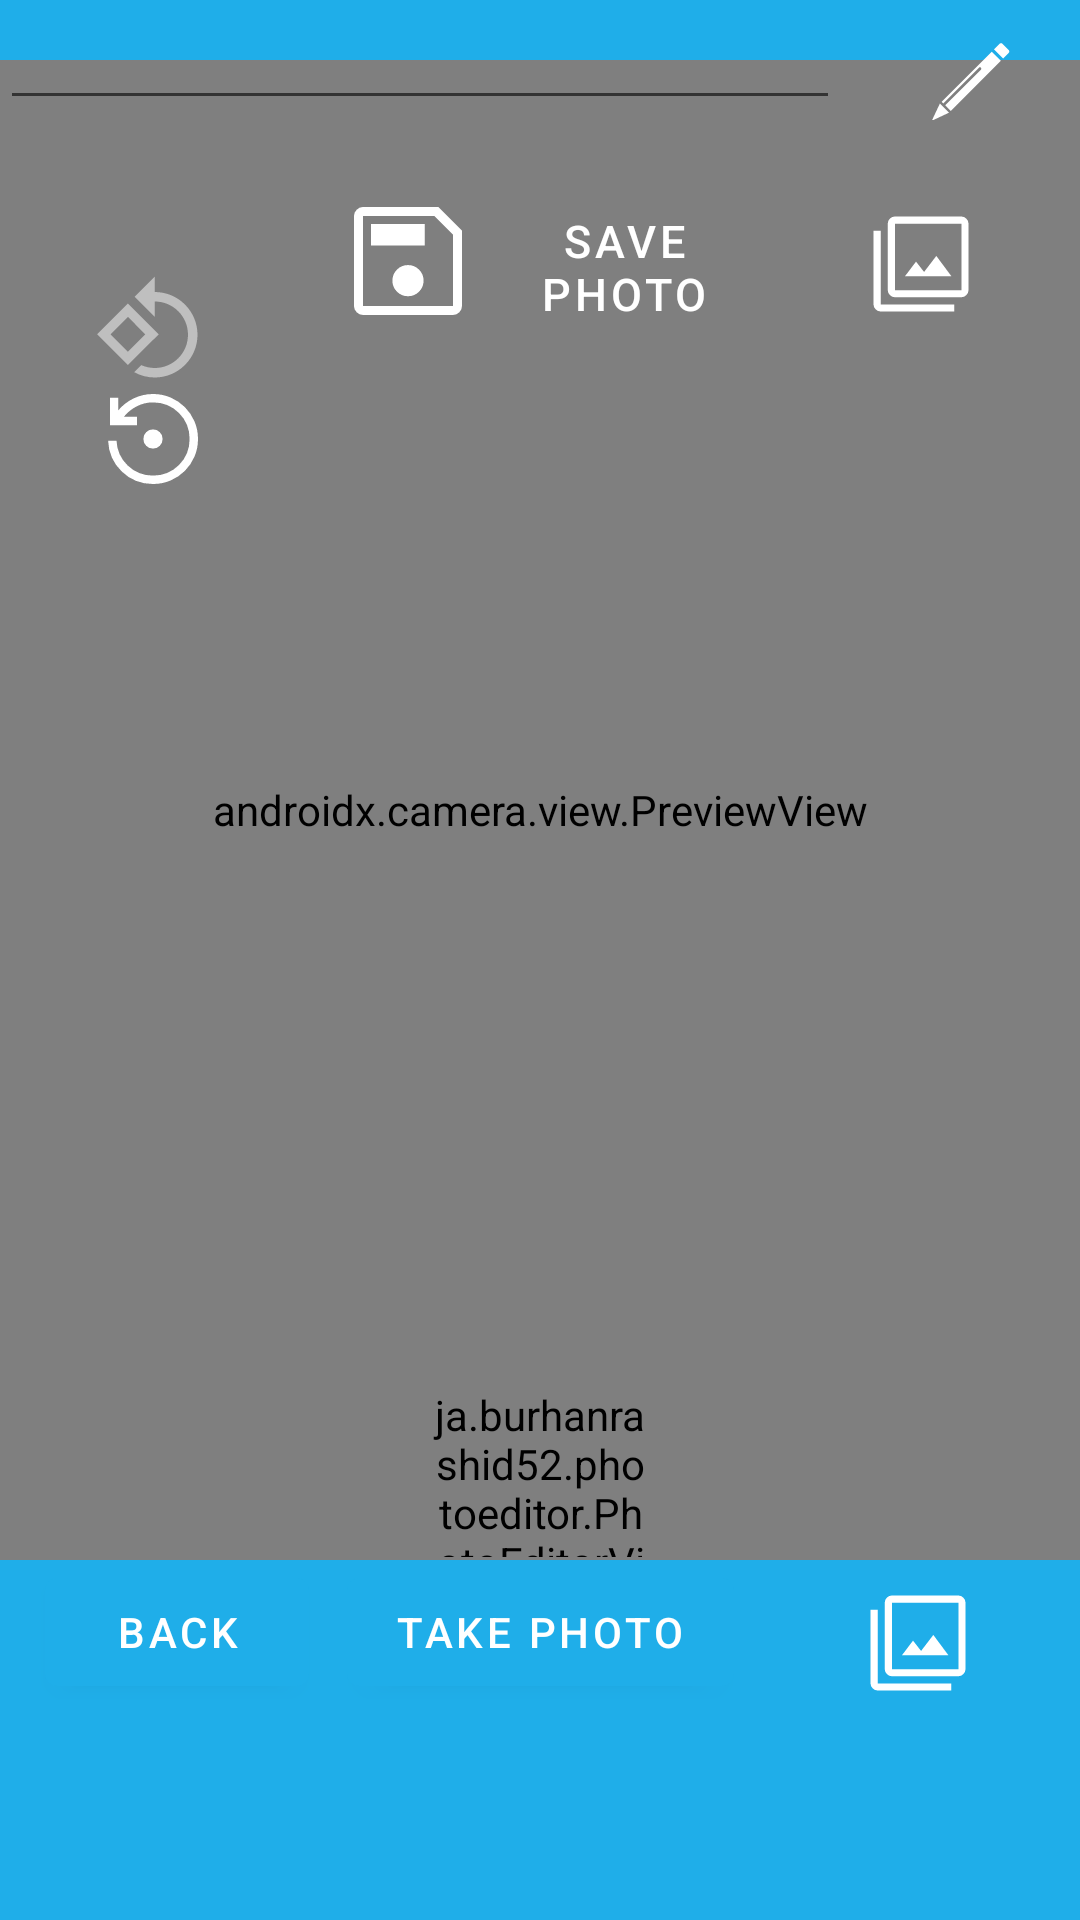

Named icons in this screenshot (1080px×1920px) and their bounding boxes, detection(x1, y1, x2, y2):
photo library: detection(873, 216, 969, 312), detection(870, 1595, 966, 1691)
reload: detection(108, 394, 198, 484)
rotate: detection(97, 277, 198, 378)
